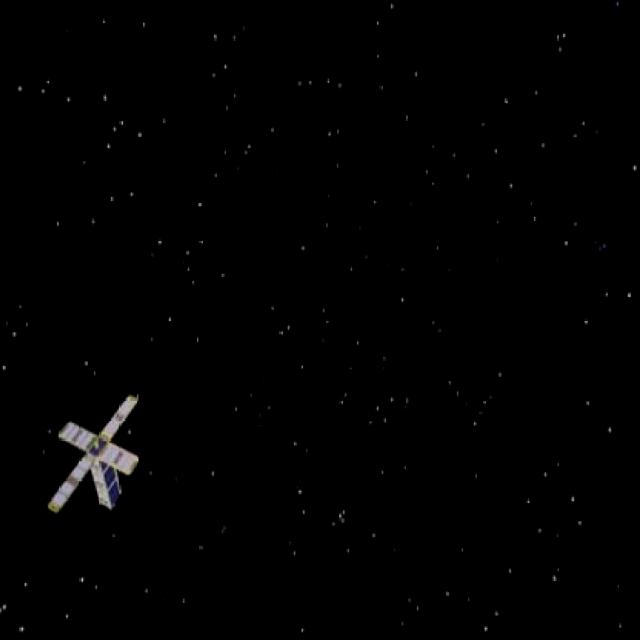medium_debris: (38, 391, 144, 514)
